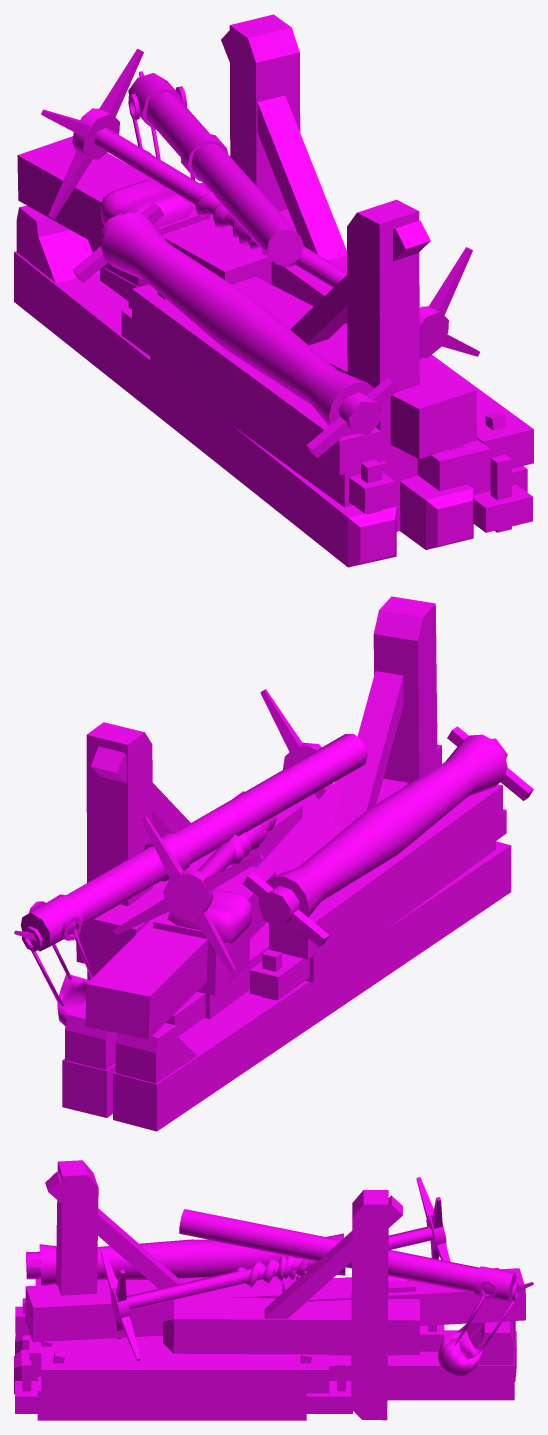
The model's file is rome_rock_onager_packed.glb.
3 views of the same model, one above another, from view 1: azimuth 30°, elevation 25°; view 2: azimuth 150°, elevation 25°; view 3: azimuth 270°, elevation 25° (orthographic). The views are drawn at different scales.
Visible parts, largest first — view 1: onagermesh_038-mesh; view 2: onagermesh_038-mesh; view 3: onagermesh_038-mesh.
Boxes of the visible parts, bbox=[...] form: onagermesh_038-mesh: bbox=[14, 14, 533, 567]; onagermesh_038-mesh: bbox=[14, 596, 533, 1131]; onagermesh_038-mesh: bbox=[14, 1160, 533, 1420].
Size of the model in its own units: 4.04 by 4.82 by 10.4.
